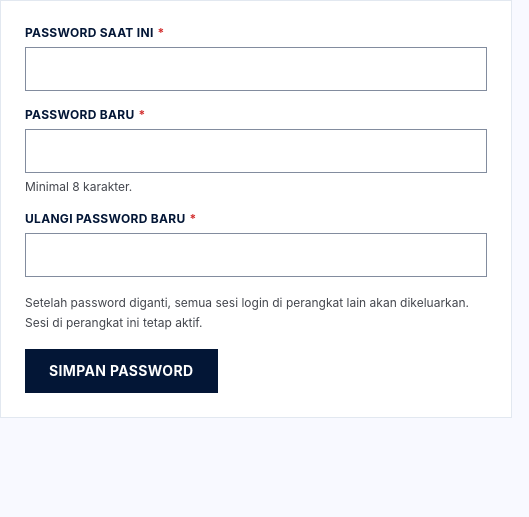
Test: ChangePasswordForm › submits the payload and shows success, then clears the fields
This screenshot has width=529, height=517.
Type "passwordlama" into the password field labelled "Password Saat Ini*" at (256, 69), box [25,47,487,91]
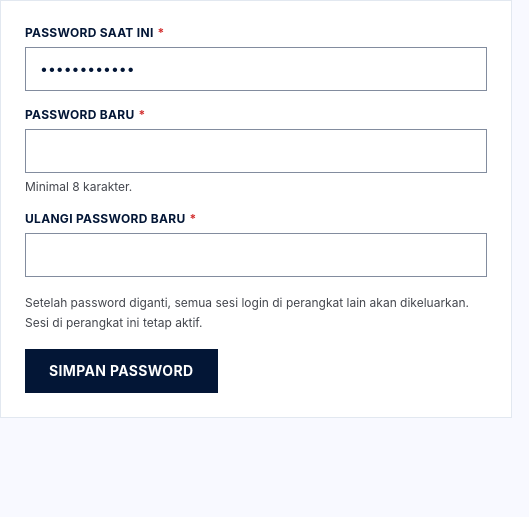
Type "passwordbaru123" into the password field labelled "Password Baru*" at (256, 151), box [25,129,487,173]
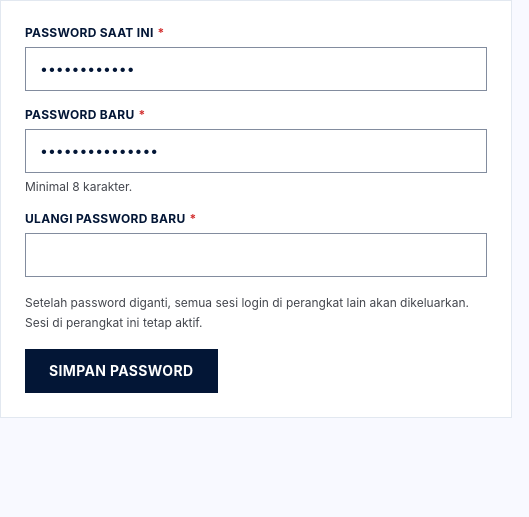
Type "passwordbaru123" into the password field labelled "Ulangi Password Baru*" at (256, 255), box [25,233,487,277]
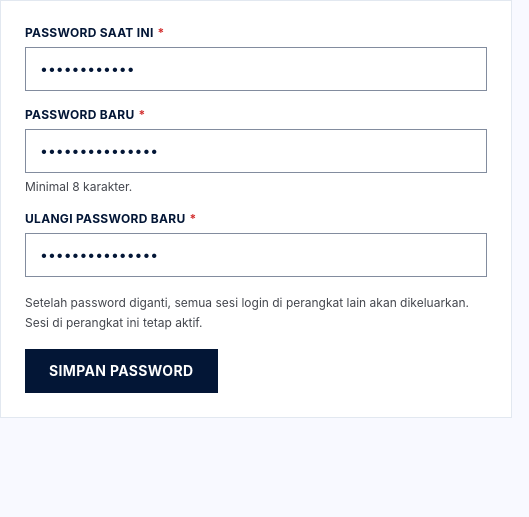
Click the button "Simpan Password" at (121, 371), box [25,349,218,393]
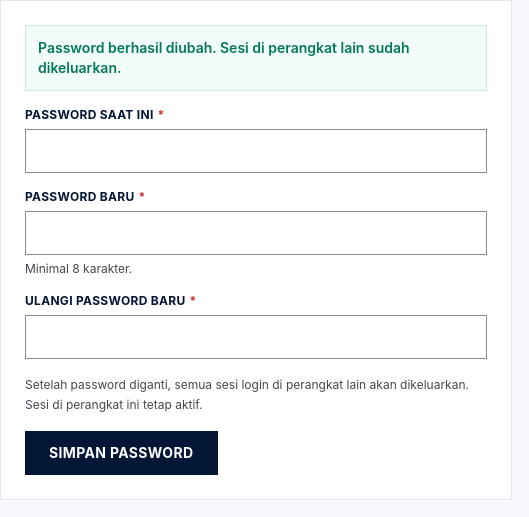
Result: the text "Password berhasil diubah. Sesi di perangkat lain sudah dikeluarkan." is shown at [25,25,487,91]
Result: the password field labelled "Password Saat Ini*" is empty at [25,129,487,173]
